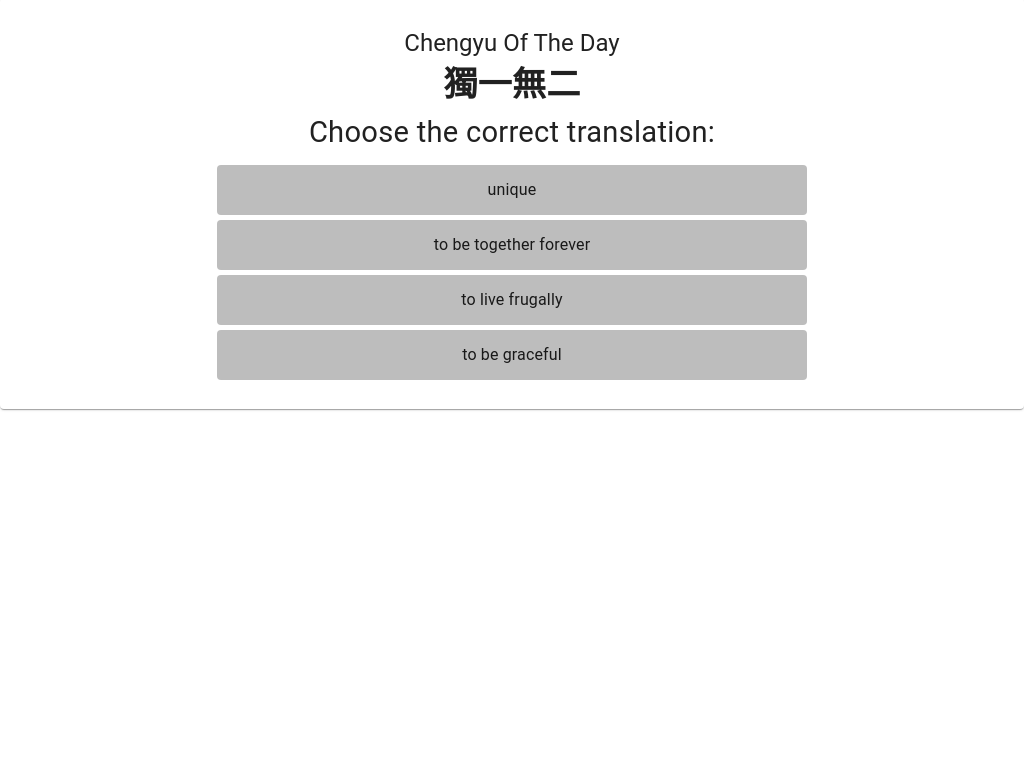
Test: Chengyu — example sentence after completion › displays example sentence after selecting the correct answer
Click the button "unique" at (512, 190), box x1=217 y1=165 x2=807 y2=215
(page scrolled)
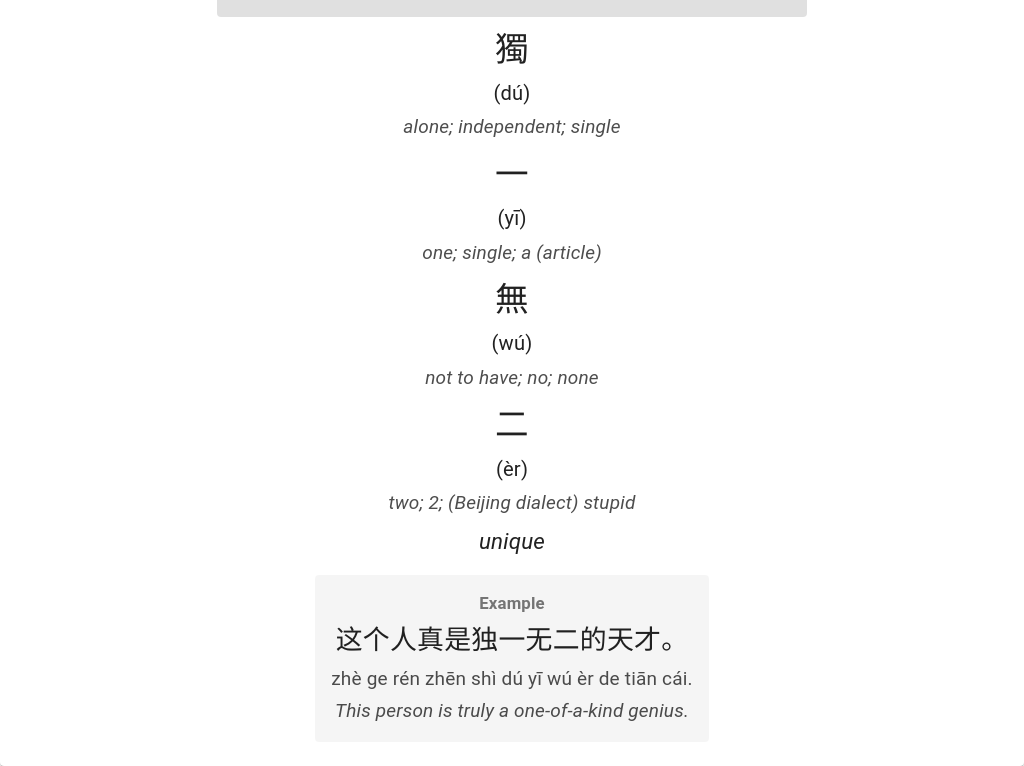
Check: the text "这个人真是独一无二的天才。" is shown, box x1=331 y1=620 x2=693 y2=660
Check: the text "zhè ge rén zhēn shì dú yī wú èr de tiān cái." is shown, box x1=331 y1=664 x2=693 y2=693
Check: the text "This person is truly a one-of-a-kind genius." is shown, box x1=331 y1=697 x2=693 y2=726
